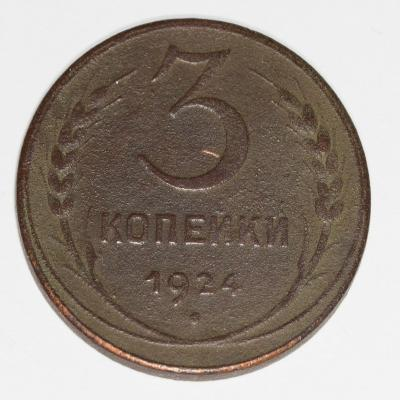numismatics: (17, 19, 370, 379)
